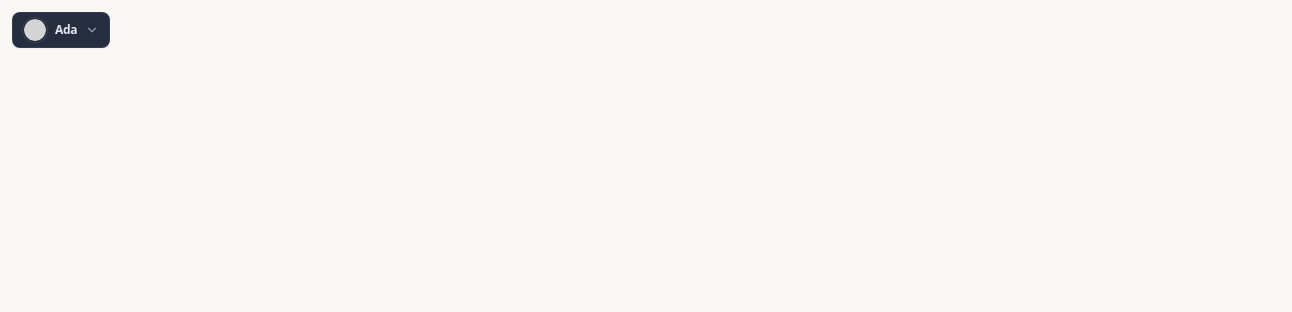
Test case: UserMenu (Task 1.10) › closes on Escape and returns focus to the trigger button
Click the button with aria-label "Profile Menu": (61, 30) x1=12 y1=12 x2=110 y2=48
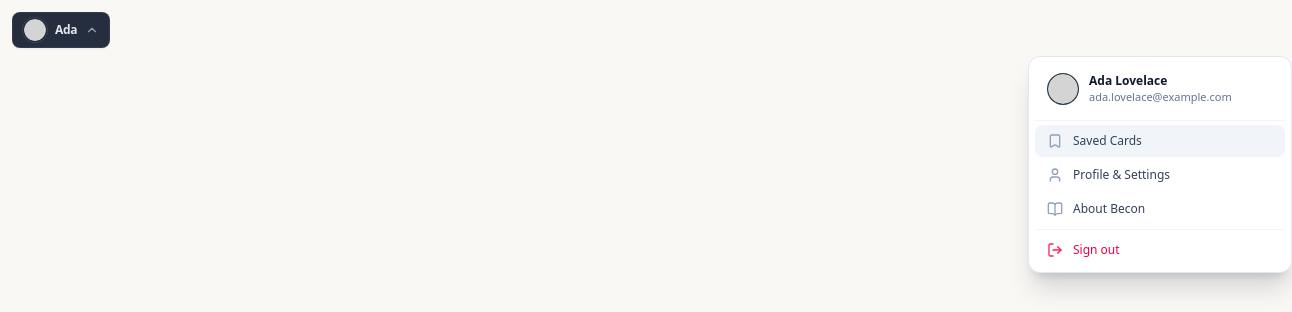
Press Escape in the menu, box x1=1028 y1=56 x2=1291 y2=272
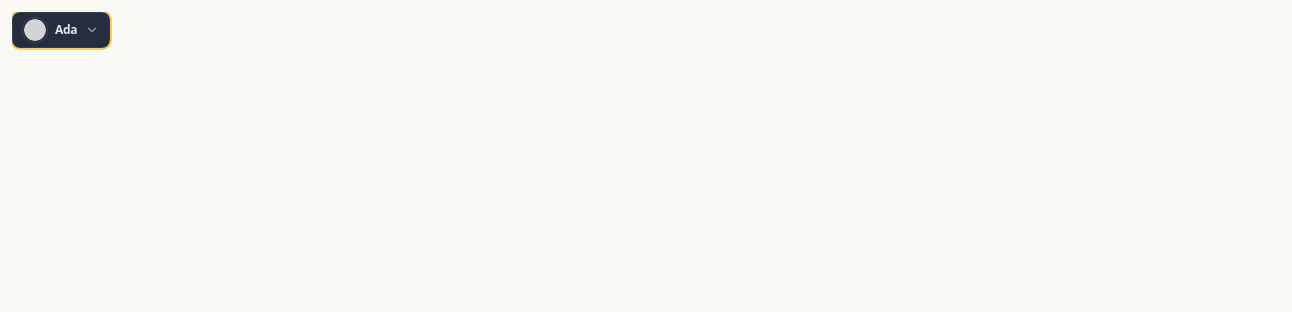
expect the menu is gone: met
expect the button with aria-label "Profile Menu" is collapsed: met, box x1=12 y1=12 x2=110 y2=48
